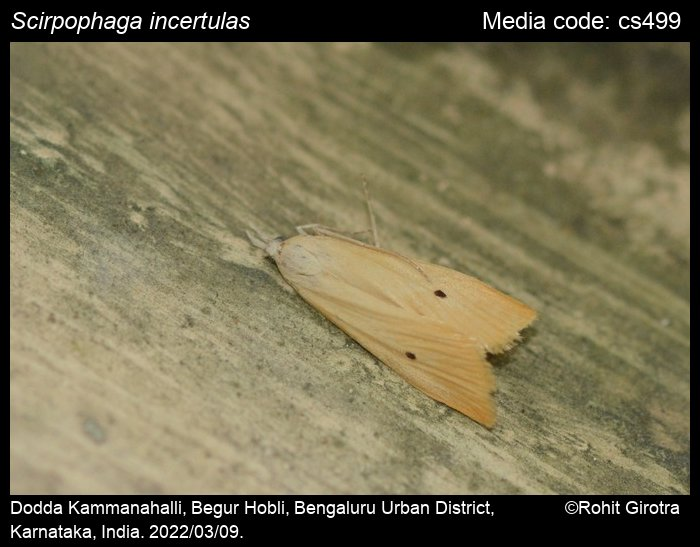Crambidae: (243, 179, 539, 435)
